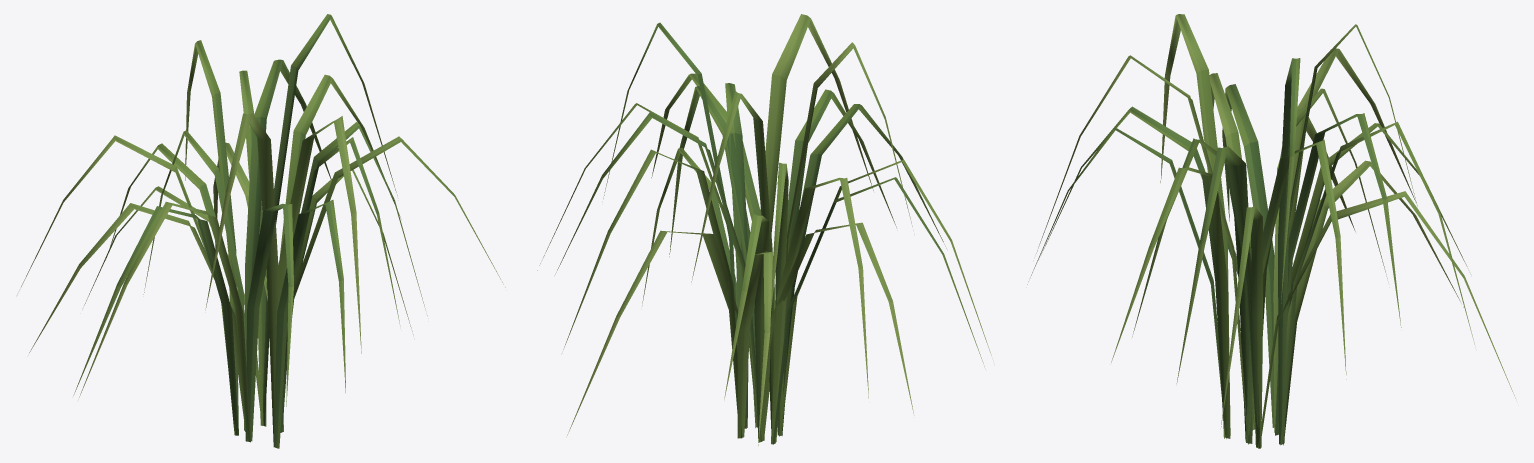
The model's file is rice-arching.glb.
3 views of the same model, side by side, from view 1: azimuth 30°, elevation 25°; view 2: azimuth 150°, elevation 25°; view 3: azimuth 270°, elevation 25° (orthographic). The views are drawn at different scales.
Visible parts, largest first — view 1: Arching rice seedlings with folded leaf blades; view 2: Arching rice seedlings with folded leaf blades; view 3: Arching rice seedlings with folded leaf blades.
Part boxes in pixels (<box>): Arching rice seedlings with folded leaf blades: <box>21,14,505,448</box>; Arching rice seedlings with folded leaf blades: <box>537,14,991,445</box>; Arching rice seedlings with folded leaf blades: <box>1027,14,1515,448</box>.
Bounding box in the file's own units: 0.7351 × 0.7091 × 0.7477.
